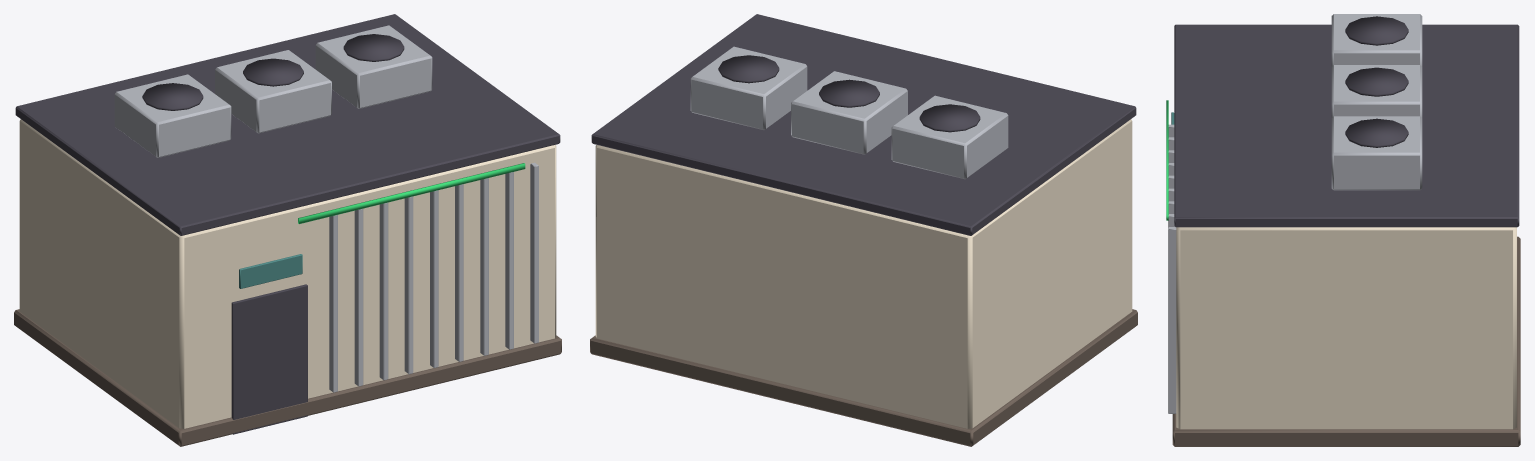
Rendered from era_datacentre.glb.
The picture shows the model from 3 angles, left to right: view 1: azimuth 30°, elevation 25°; view 2: azimuth 150°, elevation 25°; view 3: azimuth 270°, elevation 25°; orthographic projection. The views are drawn at different scales.
Visible parts, largest first — view 1: era_datacentre; view 2: era_datacentre; view 3: era_datacentre.
Boxes of the visible parts, x1,y1,x2,y2 form: era_datacentre: [14, 14, 561, 446]; era_datacentre: [590, 14, 1137, 446]; era_datacentre: [1166, 14, 1520, 446].
Bounding box in the file's own units: 6.1 × 3.93 × 4.68.
